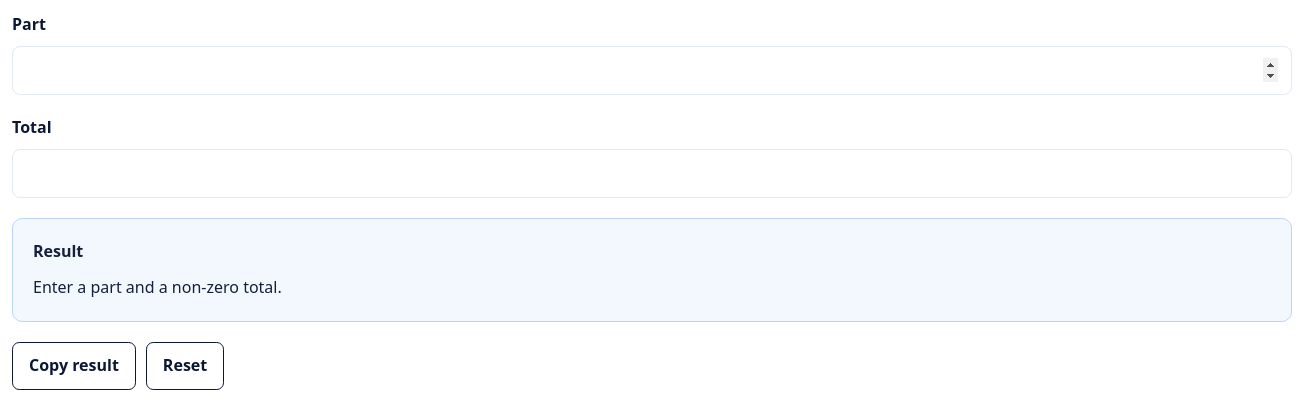
it: everyday tool engines › updates a percentage result from labelled inputs
This screenshot has width=1304, height=407.
Step 1. Type "25" into the number field labelled "Part" → (652, 70), box [12, 46, 1292, 95]
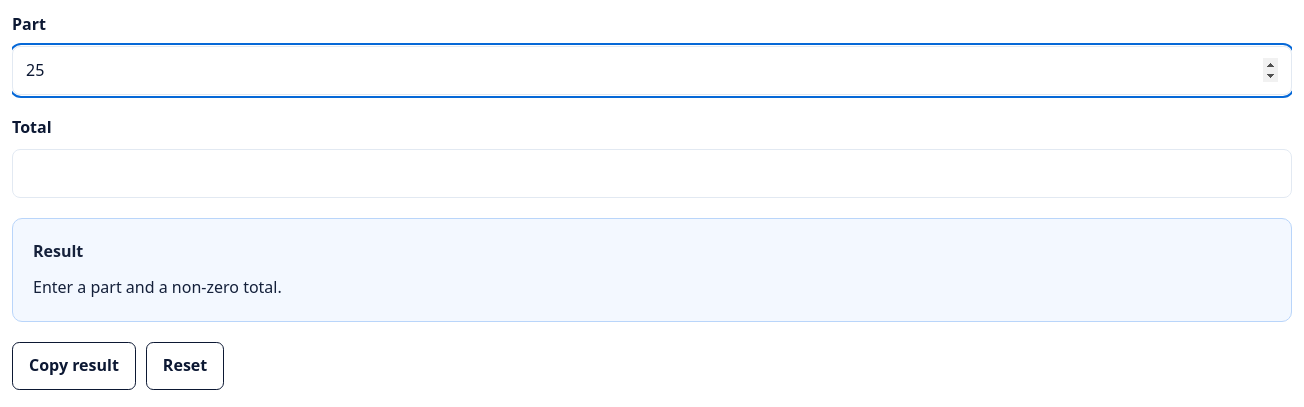
Step 2. Type "200" into the number field labelled "Total" → (652, 174), box [12, 149, 1292, 198]
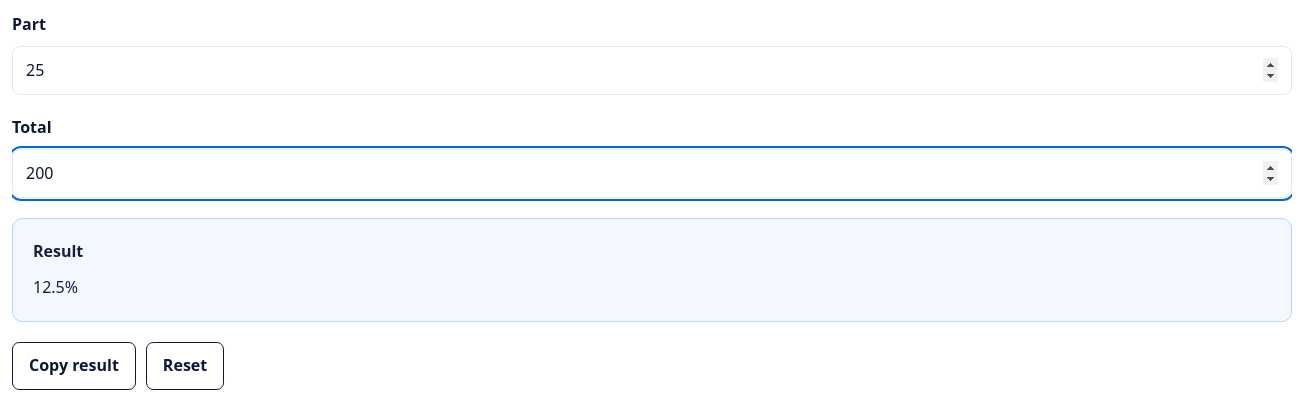
Result: the text "12.5%" is shown at [33, 276, 78, 298]
